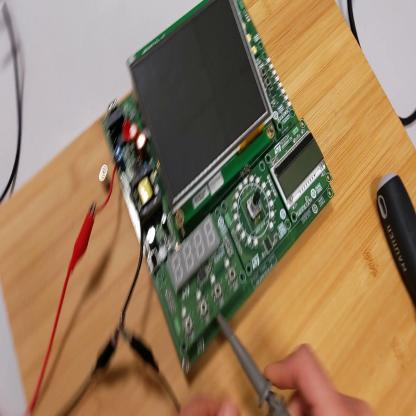hand: (262, 343, 374, 415)
low voltage board: (101, 2, 333, 375)
oscilloscope probe tip: (212, 317, 286, 416)
screwdriver-: (378, 172, 416, 307)
working area: (2, 3, 416, 413)
